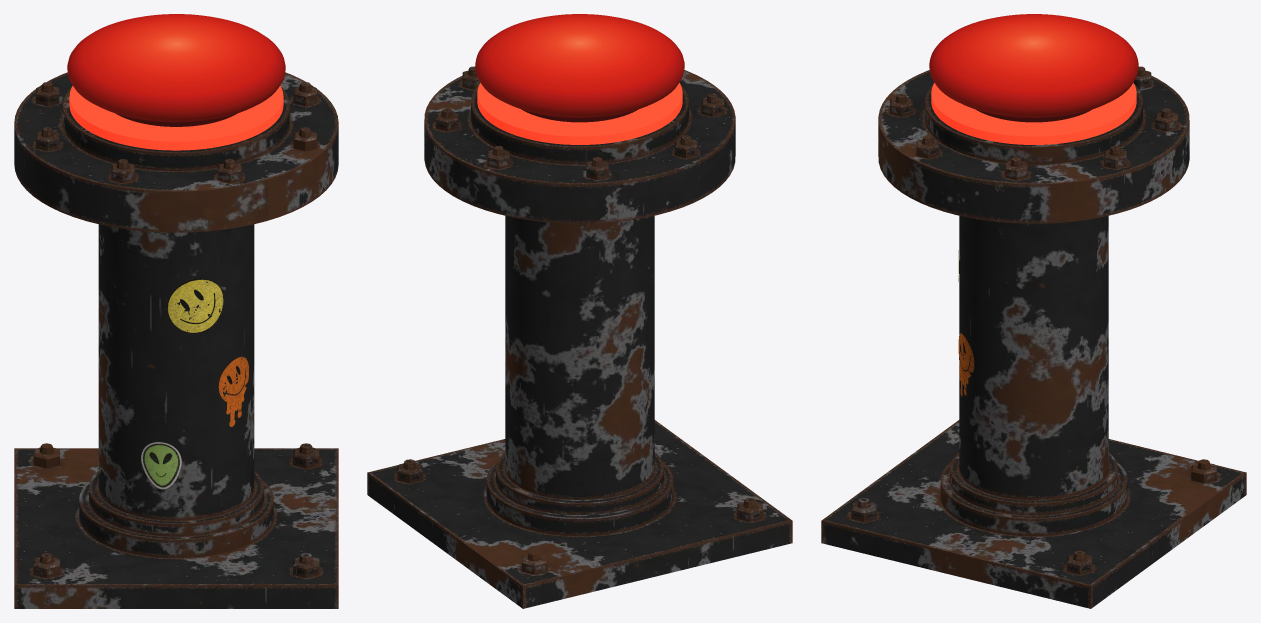
File: pulsador.BQ51WIjM.glb
3 views of the same model, side by side, from view 1: azimuth 30°, elevation 25°; view 2: azimuth 150°, elevation 25°; view 3: azimuth 270°, elevation 25° (orthographic). The views are drawn at different scales.
Visible parts, largest first — view 1: Pulsador_Hierro, Button_Moving_4, Pulsador_Anillo, Pulsador_Pegatinas; view 2: Pulsador_Hierro, Button_Moving_4, Pulsador_Anillo; view 3: Pulsador_Hierro, Button_Moving_4, Pulsador_Anillo, Pulsador_Pegatinas.
Part boxes in pixels (x1,y1,x2,y2): Pulsador_Hierro: (14, 72, 338, 608); Button_Moving_4: (67, 14, 285, 126); Pulsador_Anillo: (69, 86, 283, 150); Pulsador_Pegatinas: (141, 278, 248, 489); Pulsador_Hierro: (367, 66, 792, 608); Button_Moving_4: (475, 14, 684, 122); Pulsador_Anillo: (477, 83, 682, 144); Pulsador_Hierro: (821, 66, 1246, 608); Button_Moving_4: (929, 14, 1138, 122); Pulsador_Anillo: (931, 83, 1136, 144); Pulsador_Pegatinas: (958, 250, 974, 396).
Size of the model in its own units: 0.7119 by 0.88 by 0.7119.
Materials: 4 (3 with a texture image).
